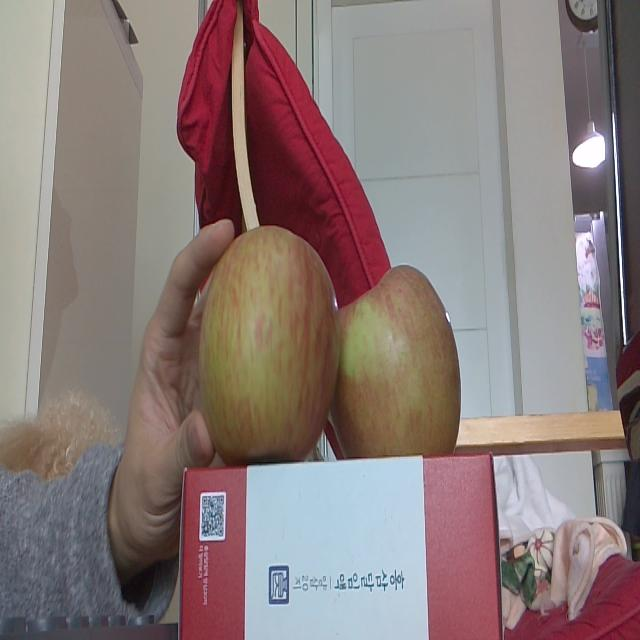apple: (196, 225, 342, 467), (337, 263, 463, 465)
